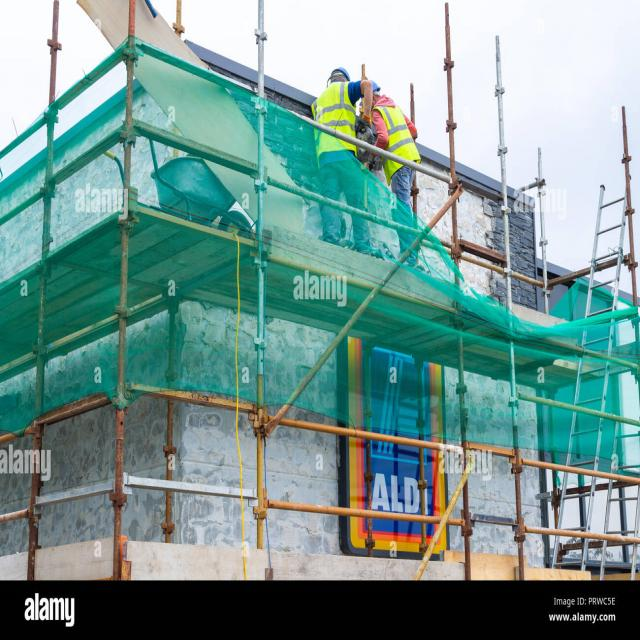Reflective-Jacket: (373, 94, 421, 171), (311, 78, 358, 155)
Safety-Helmet: (326, 63, 353, 86), (370, 77, 382, 94)
